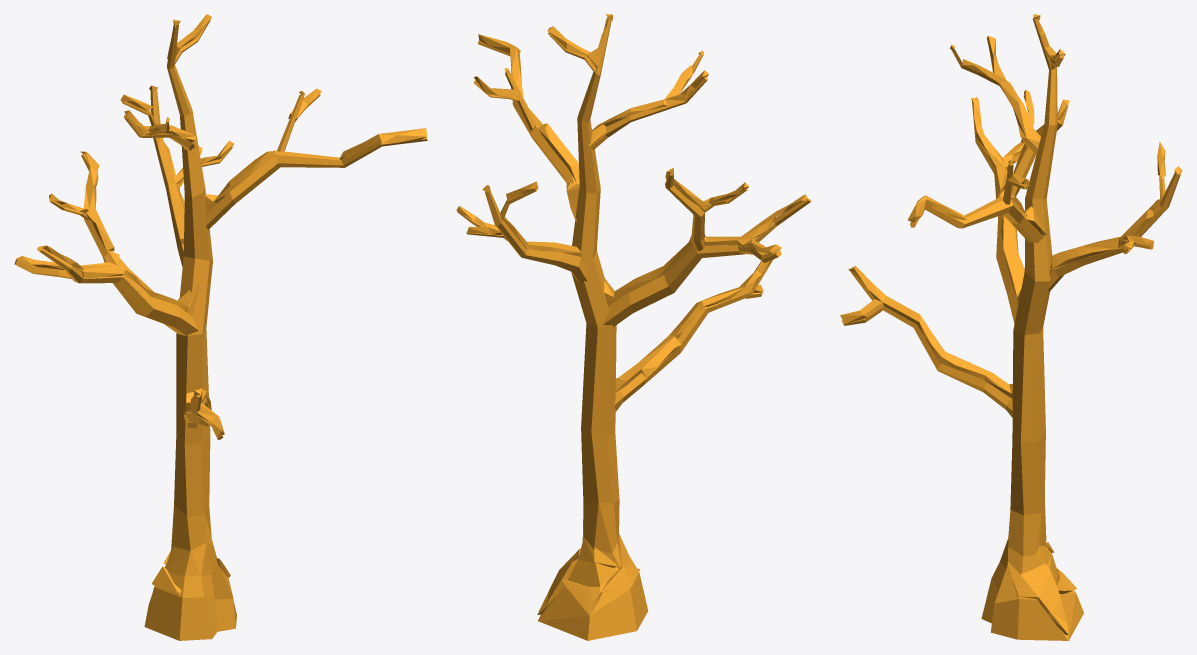
Rendered from SM_Tree_Oak_Young_A_Bare_Snow.fbx.
The picture shows the model from 3 angles, left to right: view 1: azimuth 30°, elevation 25°; view 2: azimuth 150°, elevation 25°; view 3: azimuth 270°, elevation 25°; orthographic projection.
Parts seen in each view (by area): view 1: tree-oak-young-a-bare-snow; view 2: tree-oak-young-a-bare-snow; view 3: tree-oak-young-a-bare-snow.
Part boxes in pixels (box(x1,y1,x2,y2)): tree-oak-young-a-bare-snow: box(14, 14, 427, 640); tree-oak-young-a-bare-snow: box(456, 14, 811, 640); tree-oak-young-a-bare-snow: box(840, 14, 1182, 640).
Bounding box in the file's own units: 3.1 × 4.95 × 2.57.
